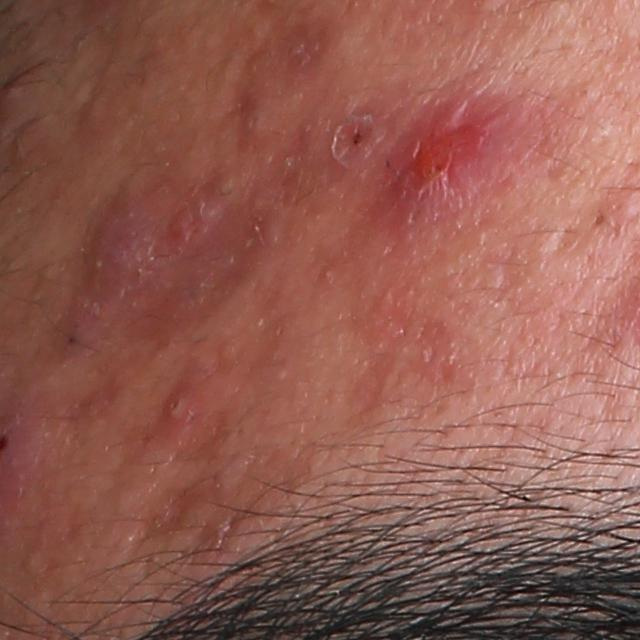comedo: (591, 208, 610, 227)
nodule: (381, 93, 528, 219), (63, 191, 174, 334)
